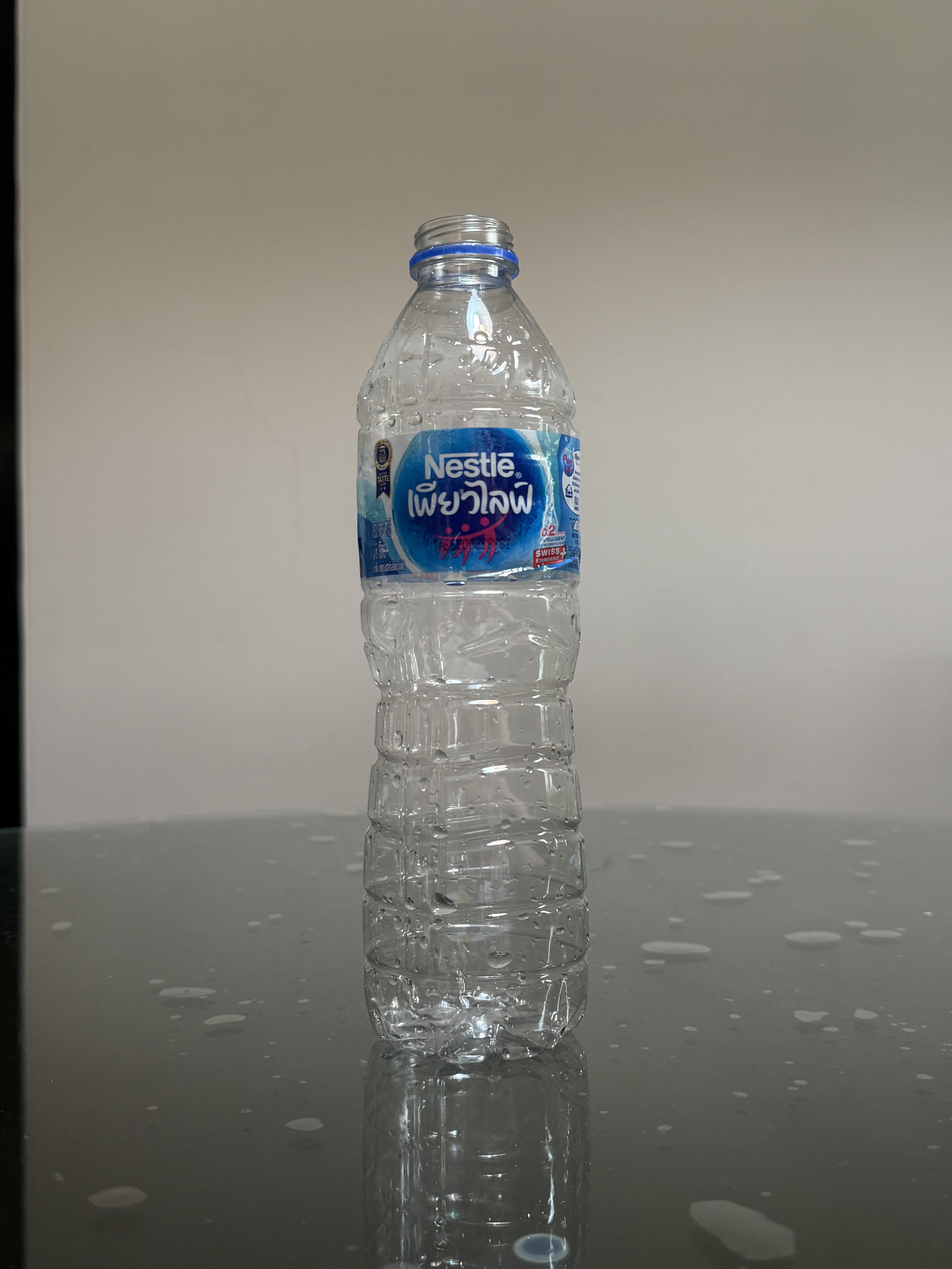no_cap: (408, 212, 519, 278)
